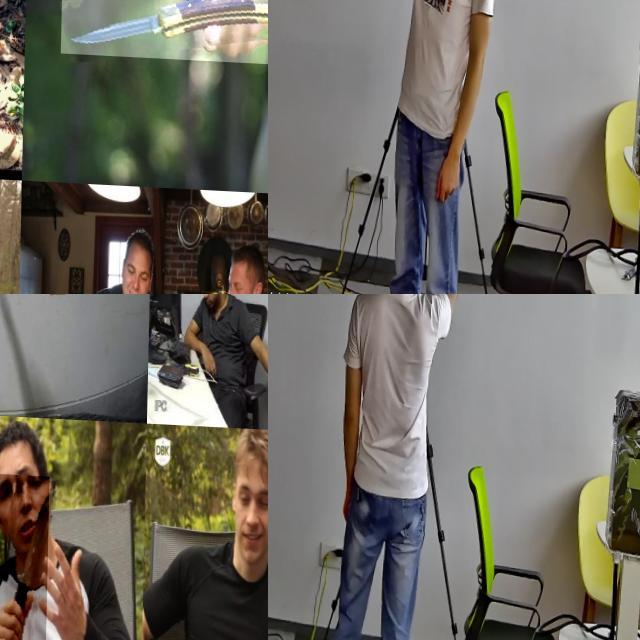-: (61, 0, 268, 58), (0, 472, 51, 640), (0, 294, 68, 383), (0, 96, 19, 161)
gun-knife-thesis - v11 Yolov5 augmented: (323, 0, 374, 35), (427, 294, 458, 333)
